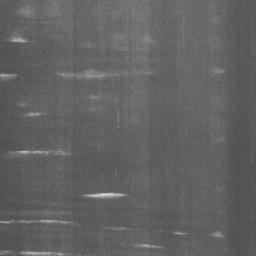Waist folding: (0, 2, 226, 101), (0, 199, 224, 256), (0, 145, 99, 160), (17, 101, 50, 118), (81, 191, 128, 200), (186, 136, 225, 146), (0, 71, 18, 82), (116, 121, 136, 130), (182, 48, 216, 50)
